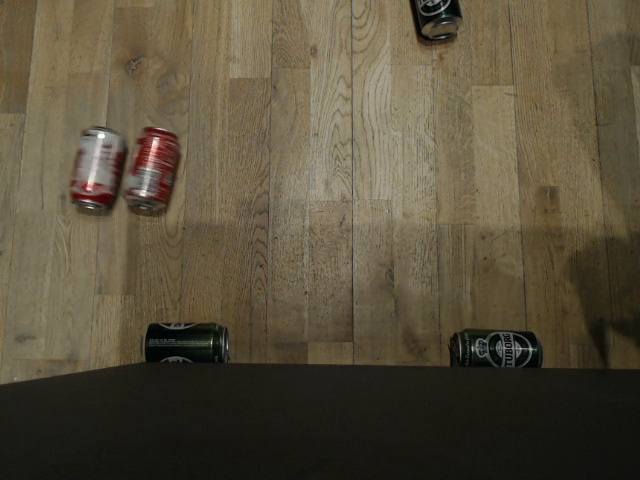beer: (137, 318, 230, 364), (450, 325, 541, 372), (410, 0, 461, 41)
cola: (120, 123, 182, 207), (68, 125, 125, 213)
